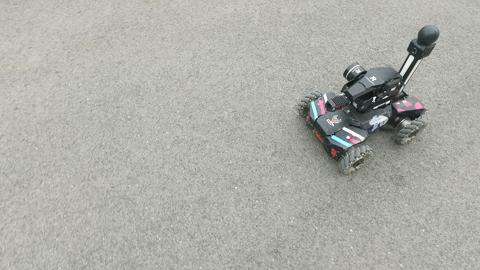chariot: (297, 24, 440, 175)
